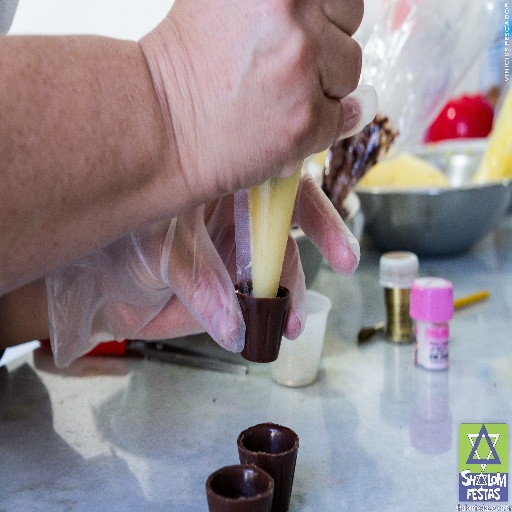hand: (37, 12, 381, 241), (78, 162, 361, 355)
